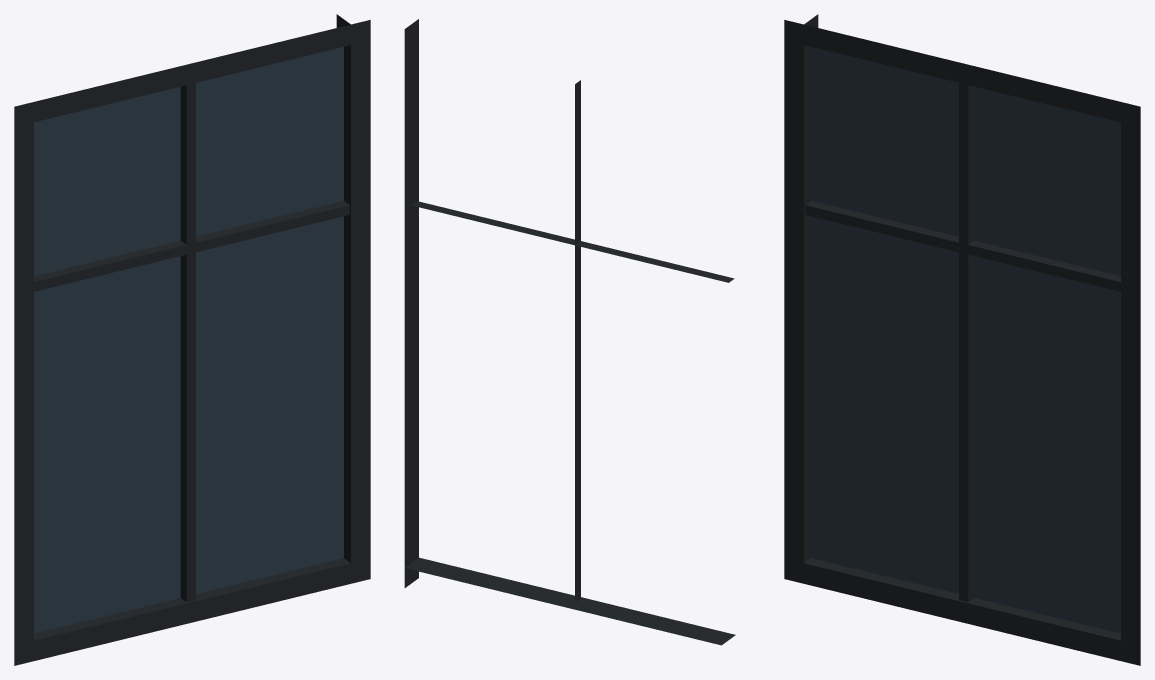
File: window.glb
The picture shows the model from 3 angles, left to right: view 1: azimuth 30°, elevation 25°; view 2: azimuth 150°, elevation 25°; view 3: azimuth 330°, elevation 25°; orthographic projection.
Bounding box in the file's own units: 1 × 1.5 × 0.07.
